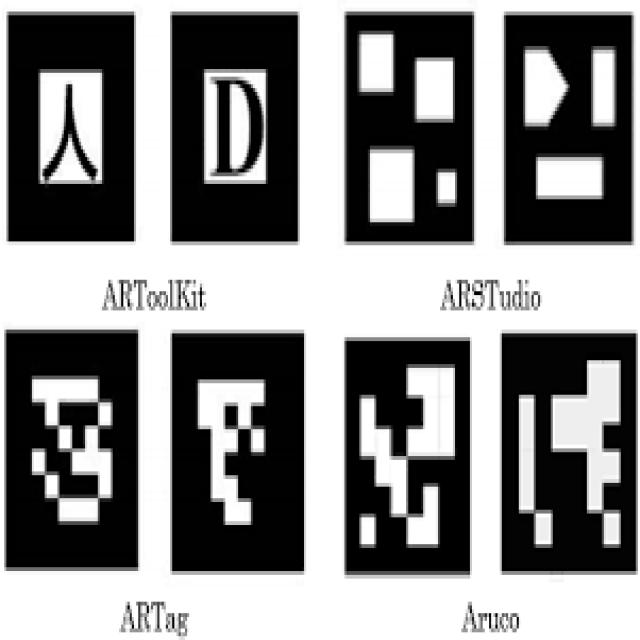aruco: (493, 329, 639, 640), (350, 312, 474, 608)
